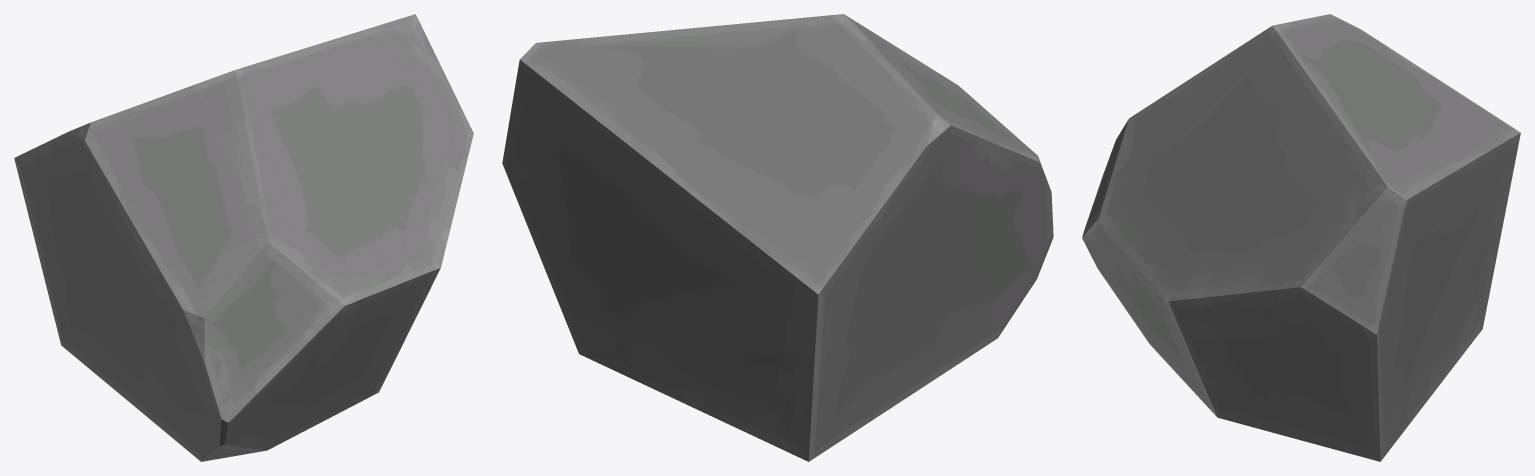
File: rock.obj
3 views of the same model, side by side, from view 1: azimuth 30°, elevation 25°; view 2: azimuth 150°, elevation 25°; view 3: azimuth 270°, elevation 25° (orthographic). The views are drawn at different scales.
Visible parts, largest first — view 1: node_id4; view 2: node_id4; view 3: node_id4.
Part boxes in pixels (x1,y1,x2,y2): node_id4: (14,14,473,461); node_id4: (502,14,1053,461); node_id4: (1082,14,1520,461).
Size of the model in its own units: 0.1727 by 0.1376 by 0.1619.
